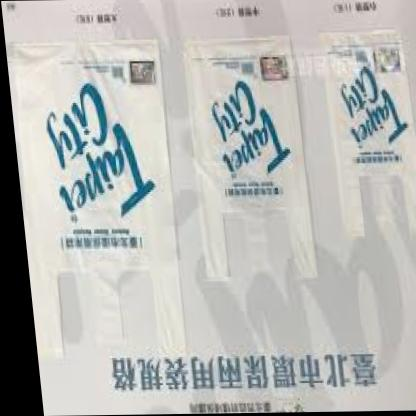Plastic: (2, 20, 180, 371), (168, 18, 322, 303), (314, 17, 416, 264)
